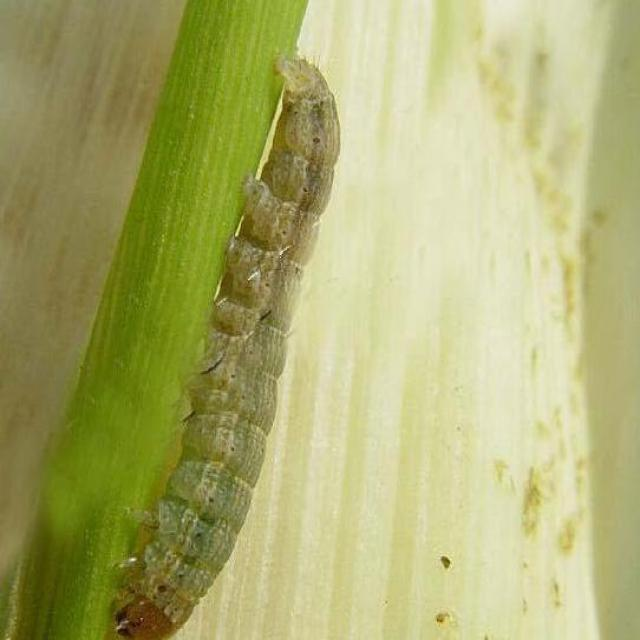BeetArmyWorm-Larva-: (102, 51, 352, 638)
